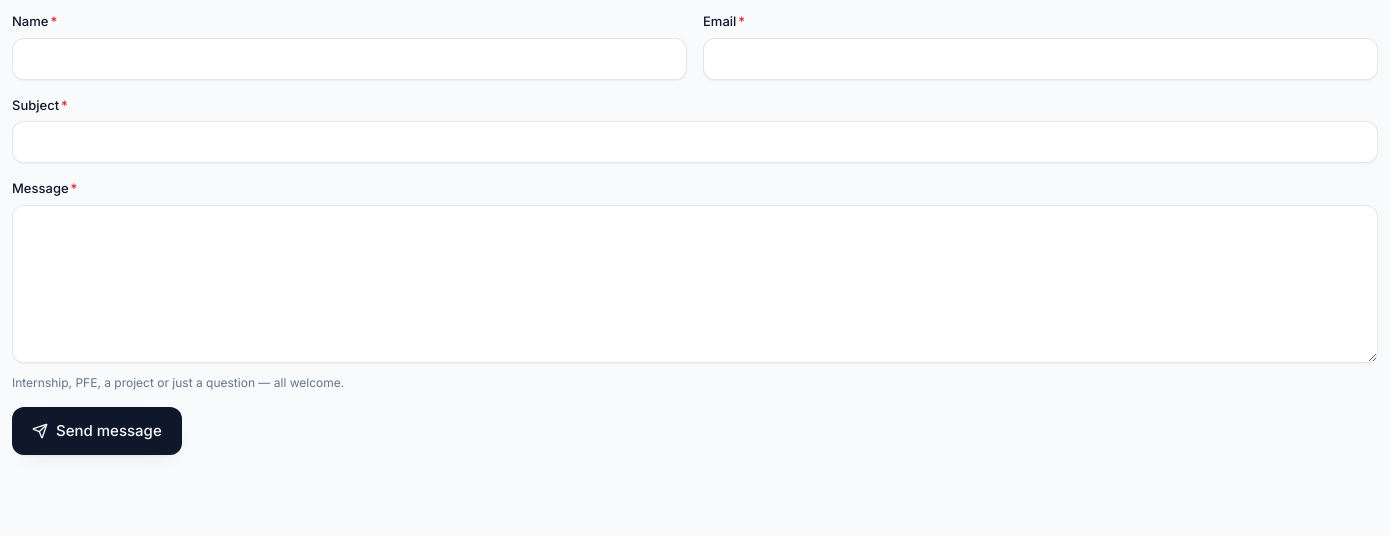
Test: ContactForm › explains rate limiting in plain language
In the field labelled "Name*": [350, 58] box [12,38,687,80], type "Jane Doe"
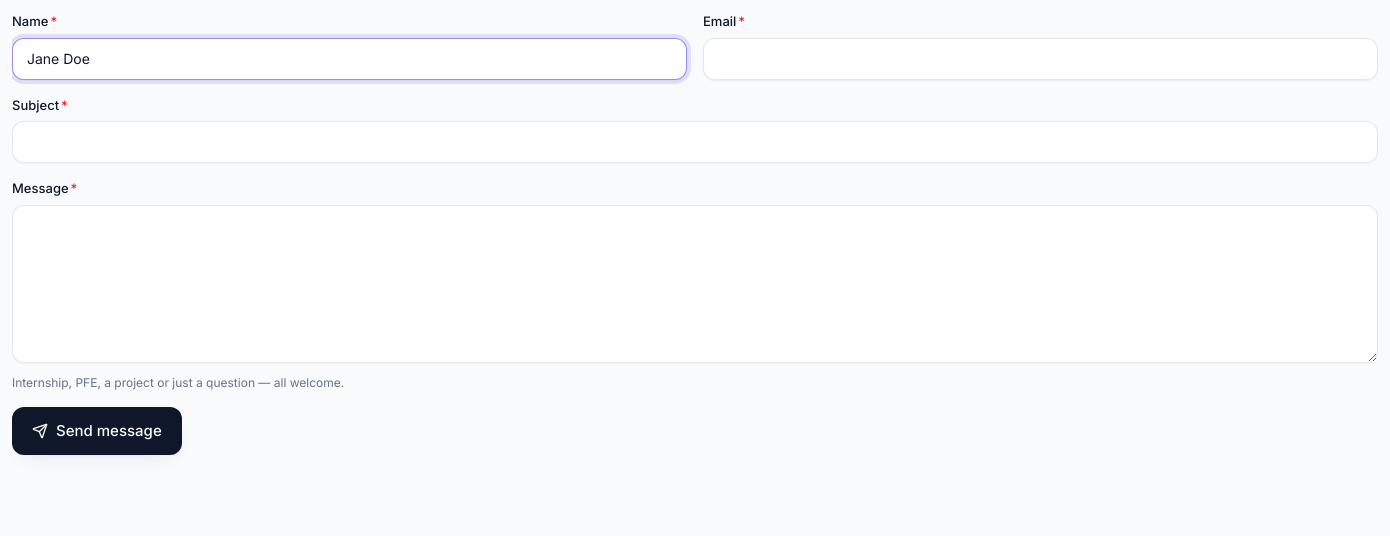
In the field labelled "Email*": [1040, 58] box [703,38,1378,80], type "jane@example.com"
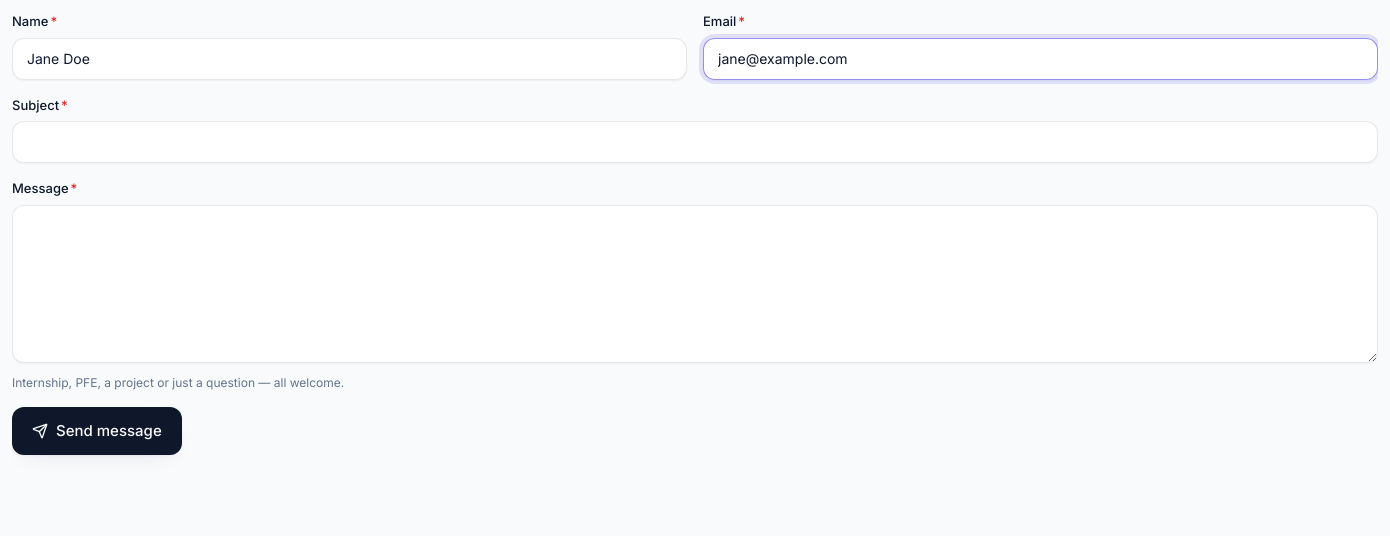
In the field labelled "Subject*": [695, 142] box [12,121,1378,163], type "Internship"
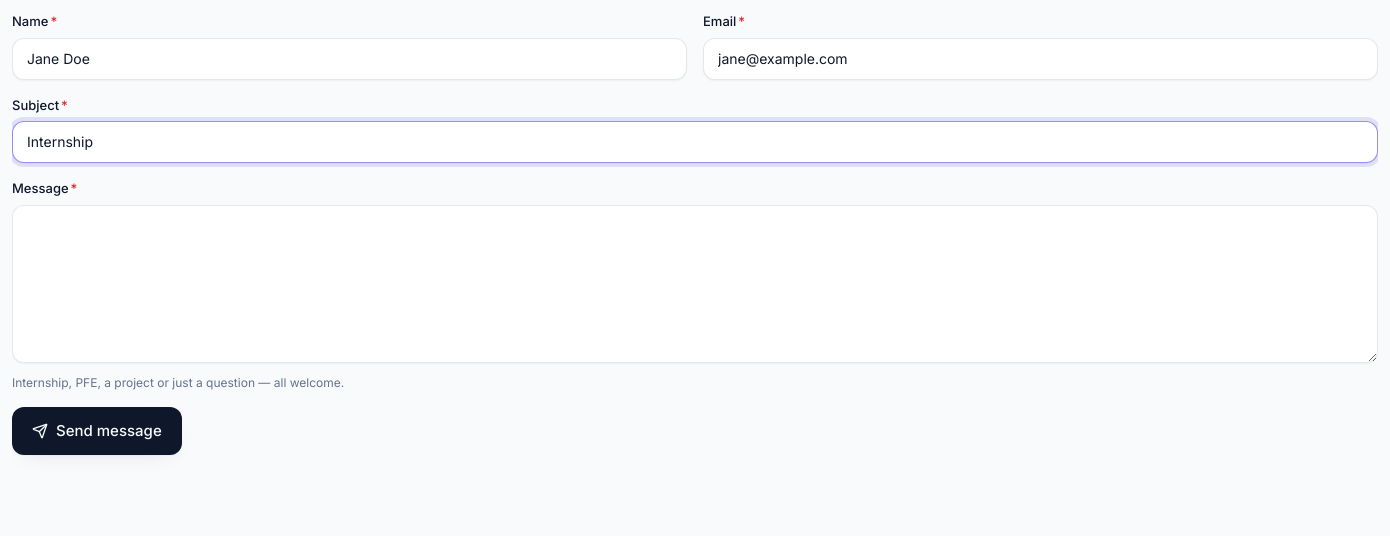
In the text box labelled "Message*": [695, 284] box [12,204,1378,363], type "Hello Rihab, I would like to talk about an internship."
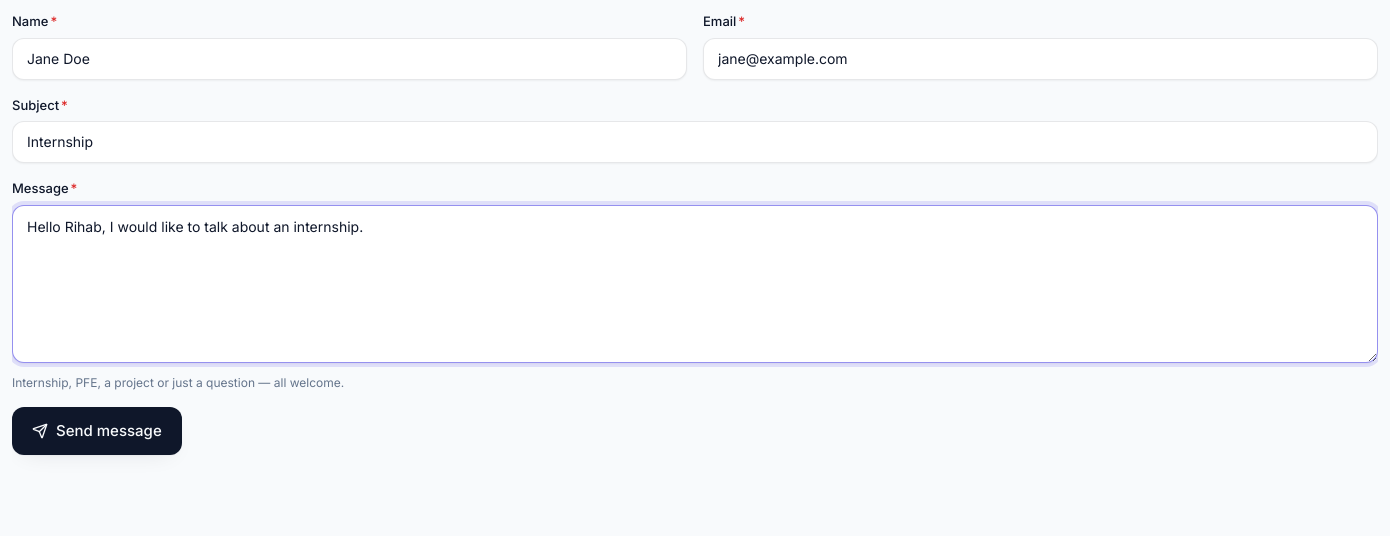
Click the button "Send message": [97, 431] box [12,407,182,455]
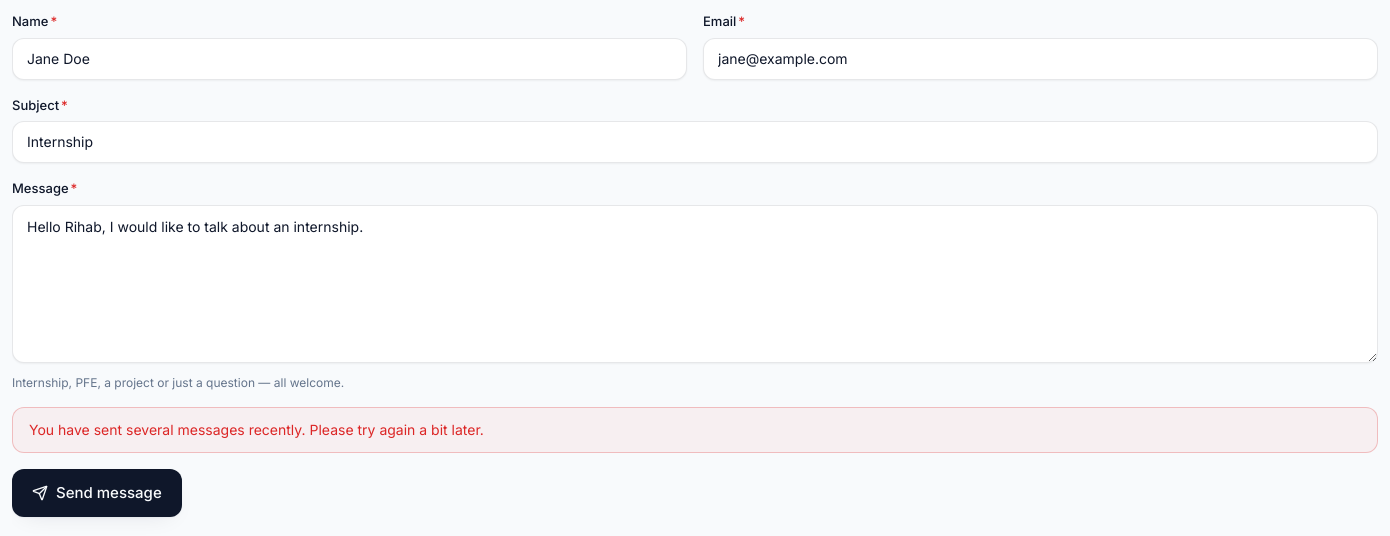
Check: the text "You have sent several messages recently. Please try again a bit later." is shown, box [12,407,1378,453]
